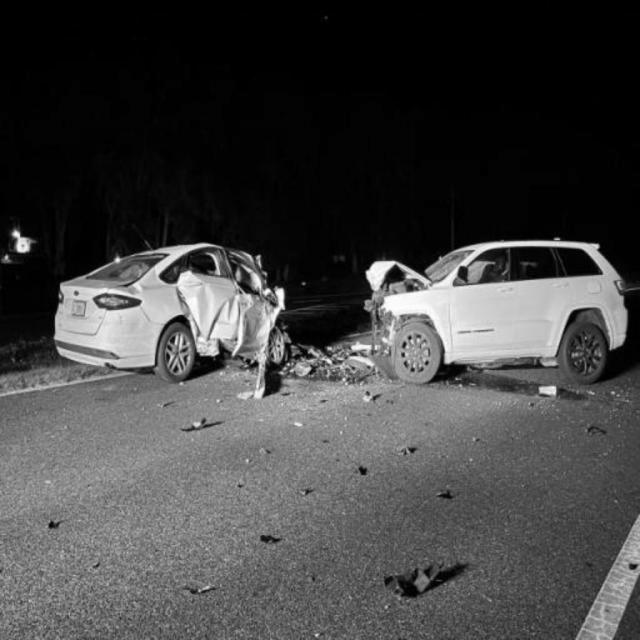vehicle: (373, 237, 626, 393), (52, 246, 285, 380)
